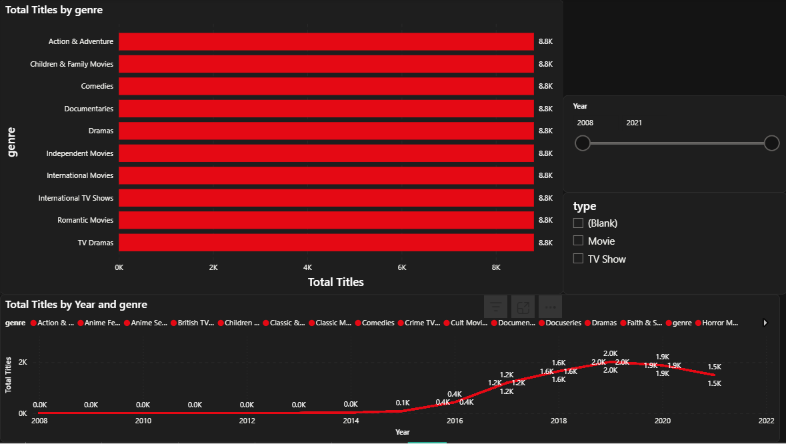

Layout of this report page (visuals, bound fields, positions):
{"tool":"powerbi","page":{"name":"Page 3","canvas":[1280,720],"ordinal":2},"visuals":[{"type":"clusteredBarChart","fields":{"Category":["Bridge_Genre.genre"],"Y":["Fact_Titles.Total Titles"]},"box":[0,0,915.7,479.8],"z":0},{"type":"lineChart","fields":{"Series":["Bridge_Genre.genre"],"Category":["Dim_Date.Year"],"Y":["Fact_Titles.Total Titles"]},"box":[0,479.8,1268.7,240.7],"z":1},{"type":"slicer","fields":{"Values":["Dim_Date.Year"]},"box":[915.7,156.1,364.3,157.8],"z":2},{"type":"slicer","fields":{"Values":["Fact_Titles.type"]},"box":[915.7,313.9,364.3,165.9],"z":3}]}

Visuals, with their boxes in screenshot pixels (x1, y1, x2, y2), scaled from the page's 1280x720 canvas onto the 787x444 screenshot:
clusteredBarChart - Bridge_Genre.genre x Fact_Titles.Total Titles: <bbox>0, 0, 563, 296</bbox>
lineChart - Bridge_Genre.genre x Dim_Date.Year: <bbox>0, 296, 780, 443</bbox>
slicer - Dim_Date.Year: <bbox>563, 96, 786, 194</bbox>
slicer - Fact_Titles.type: <bbox>563, 194, 786, 296</bbox>
